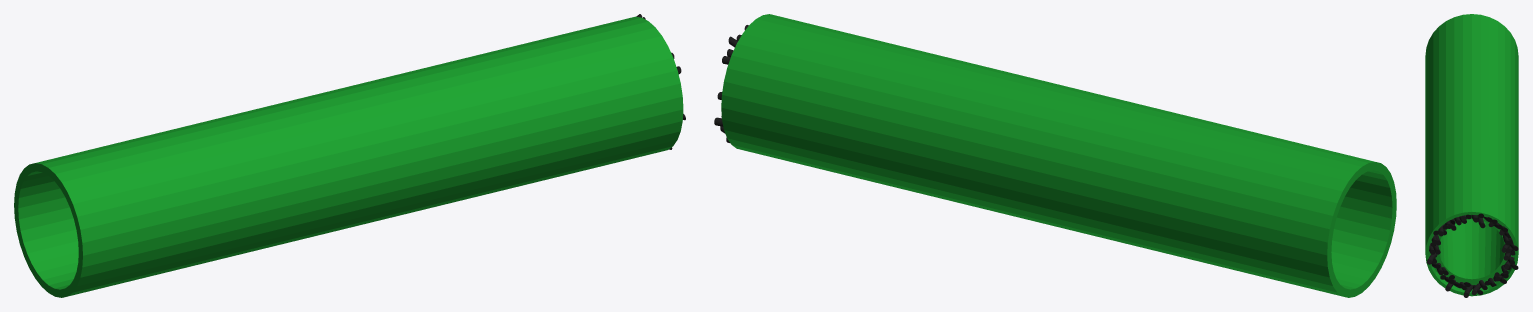
The model's file is greentube.fbx.
3 views of the same model, side by side, from view 1: azimuth 30°, elevation 25°; view 2: azimuth 150°, elevation 25°; view 3: azimuth 270°, elevation 25° (orthographic). The views are drawn at different scales.
Parts seen in each view (by area): view 1: Cylinder; view 2: Cylinder; view 3: Cylinder.
Part boxes in pixels (x1=…): Cylinder: x1=14, y1=16, x2=683, y2=297; Cylinder: x1=721, y1=14, x2=1396, y2=297; Cylinder: x1=1425, y1=14, x2=1518, y2=296.
Size of the model in its own units: 896 by 175 by 174.
